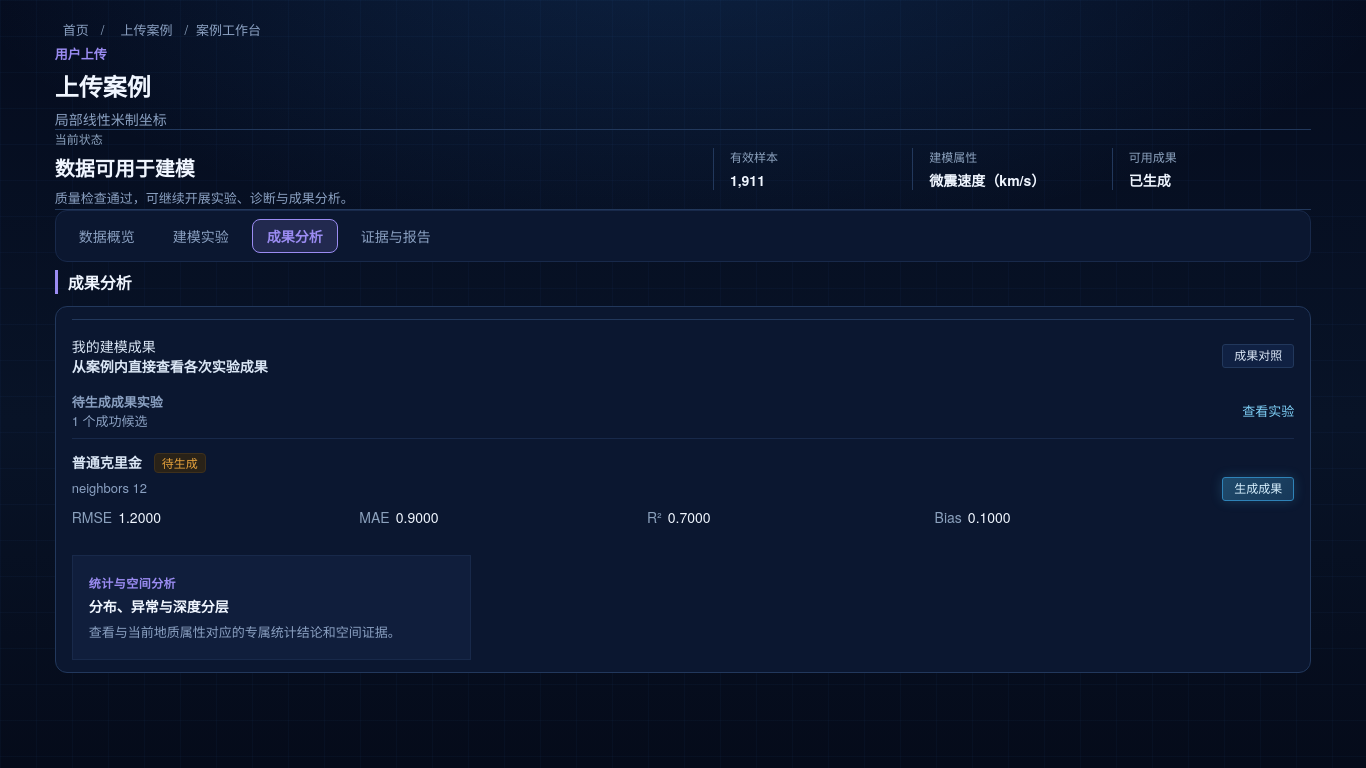
Test case: CaseWorkspaceView › successful result without a grid can be materialized from the workspace
Click the button with test id "materialize-result-r-pending" at (1258, 489), box [1222, 477, 1294, 501]
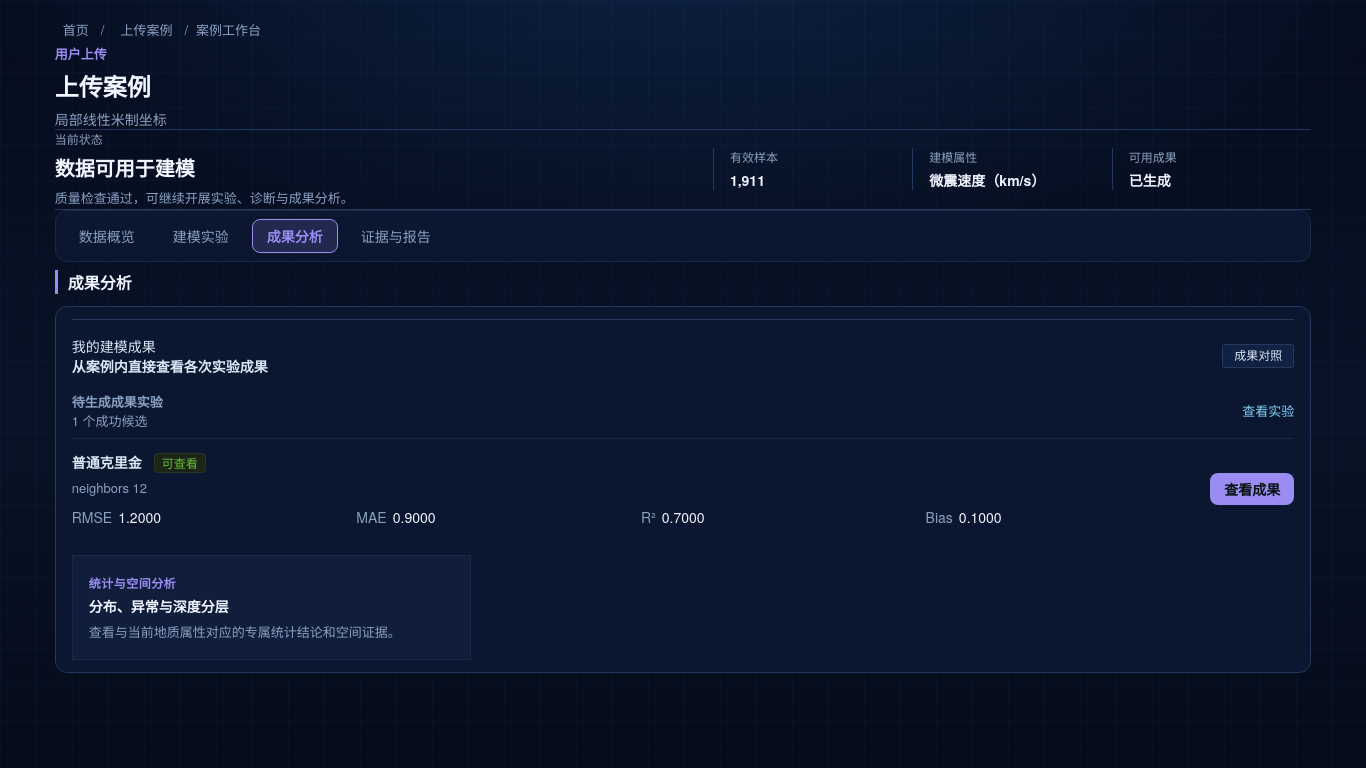
expect the link with test id "open-result-r-pending" is shown: met, box [1210, 473, 1294, 505]
